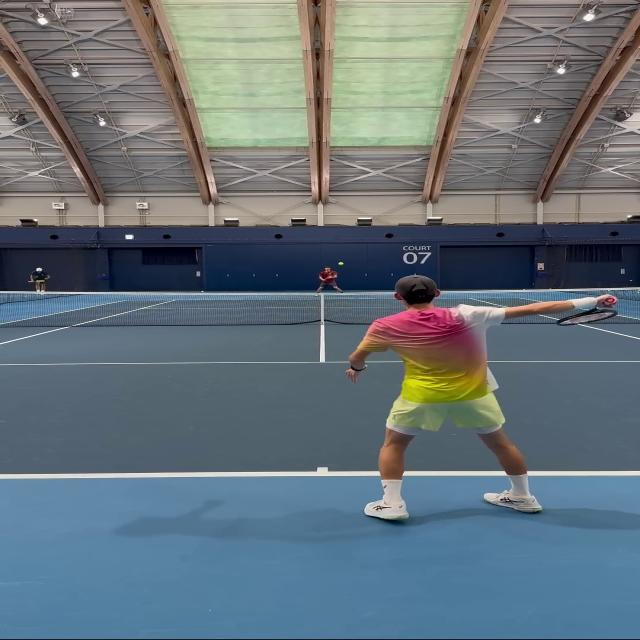tennis_ball: (339, 262, 343, 264)
